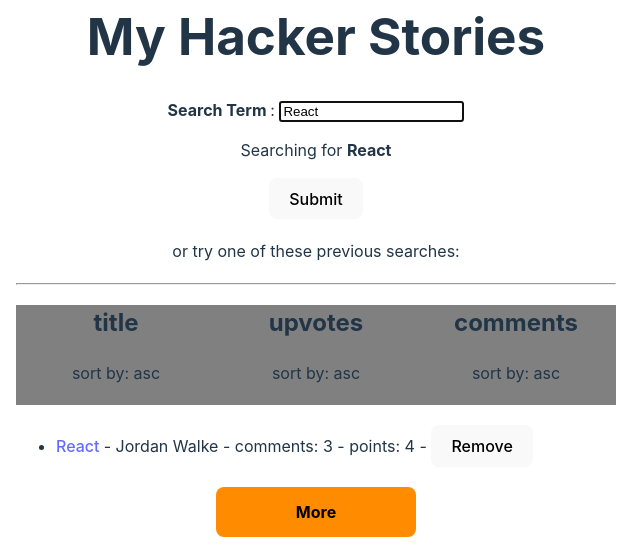
Test case: App Component › removes a story
Expected: the text "Jordan Walke" is shown, [116,436,218,456]
Click the button "Remove". click: point(482, 446)
box: [431,426,533,467]
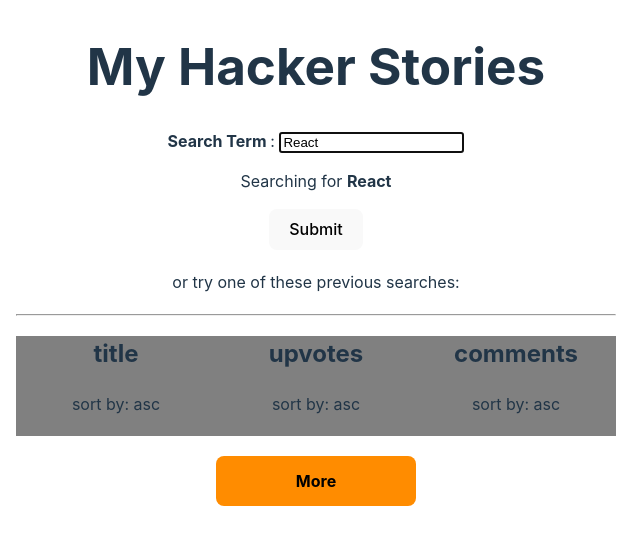
Expected: the button "Remove" is gone
Expected: the text "Jordan Walke" is gone
